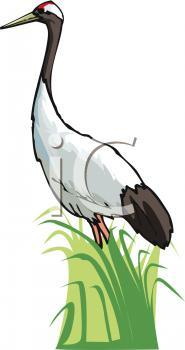bird: (2, 1, 174, 254)
